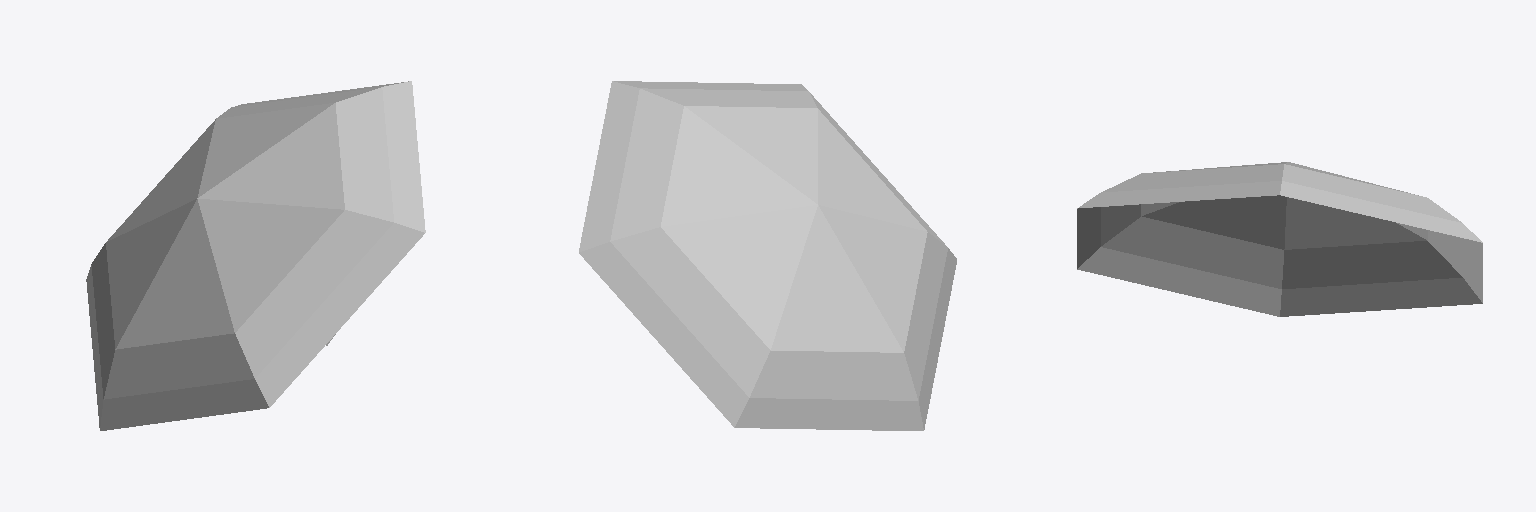
Rendered from evencare7_umbrella.obj.
The picture shows the model from 3 angles: view 1: azimuth 30°, elevation 25°; view 2: azimuth 150°, elevation 25°; view 3: azimuth 270°, elevation 25°; orthographic projection.
Parts seen in each view (by area): view 1: Cylinder; view 2: Cylinder; view 3: Cylinder.
Boxes of the visible parts, box(x1,y1,x2,y2) form: Cylinder: box(86, 81, 425, 430); Cylinder: box(579, 81, 956, 430); Cylinder: box(1077, 162, 1482, 316).
Bounding box in the file's own units: 2.07 × 1.74 × 2.33.